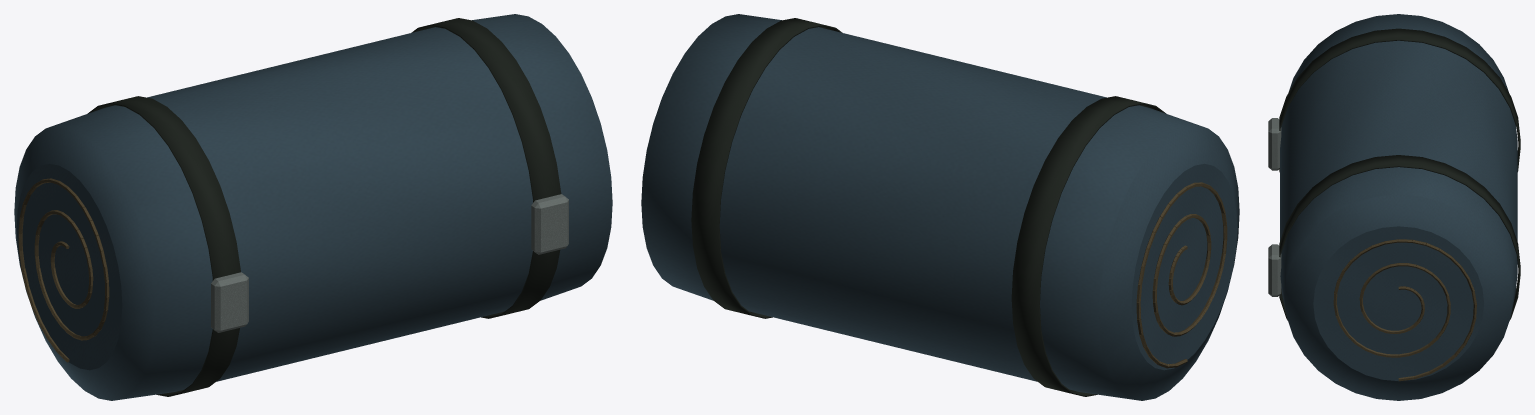
The model's file is level_camp_bedroll_rolled.glb.
3 views of the same model, side by side, from view 1: azimuth 30°, elevation 25°; view 2: azimuth 150°, elevation 25°; view 3: azimuth 270°, elevation 25° (orthographic). The views are drawn at different scales.
Parts seen in each view (by area): view 1: level_camp_bedroll_rolled; view 2: level_camp_bedroll_rolled; view 3: level_camp_bedroll_rolled.
Part boxes in pixels (<box>): level_camp_bedroll_rolled: <box>14,14,612,400</box>; level_camp_bedroll_rolled: <box>641,14,1239,400</box>; level_camp_bedroll_rolled: <box>1268,14,1520,400</box>.
Bounding box in the file's own units: 0.649 × 0.342 × 0.354.
Materials: 4 (4 with a texture image).
